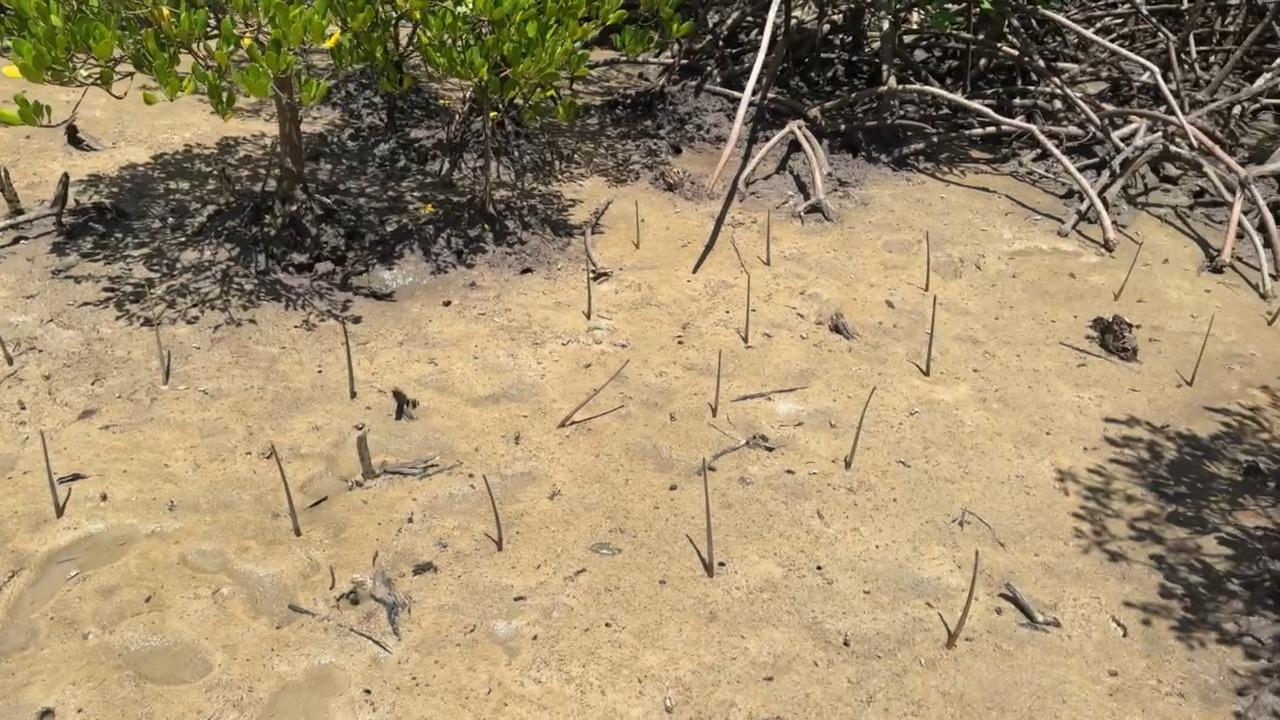Tree: (557, 360, 632, 427), (947, 549, 980, 649), (270, 443, 301, 535), (846, 385, 878, 471), (147, 287, 169, 385), (39, 430, 63, 519), (1115, 241, 1145, 301), (1189, 314, 1214, 385), (482, 474, 504, 549), (702, 456, 714, 578), (342, 318, 357, 398), (924, 294, 937, 376), (713, 349, 723, 418), (0, 337, 15, 366), (585, 259, 592, 321), (745, 275, 751, 343), (925, 230, 931, 291), (766, 209, 772, 267), (635, 200, 640, 248), (1269, 306, 1280, 326)
